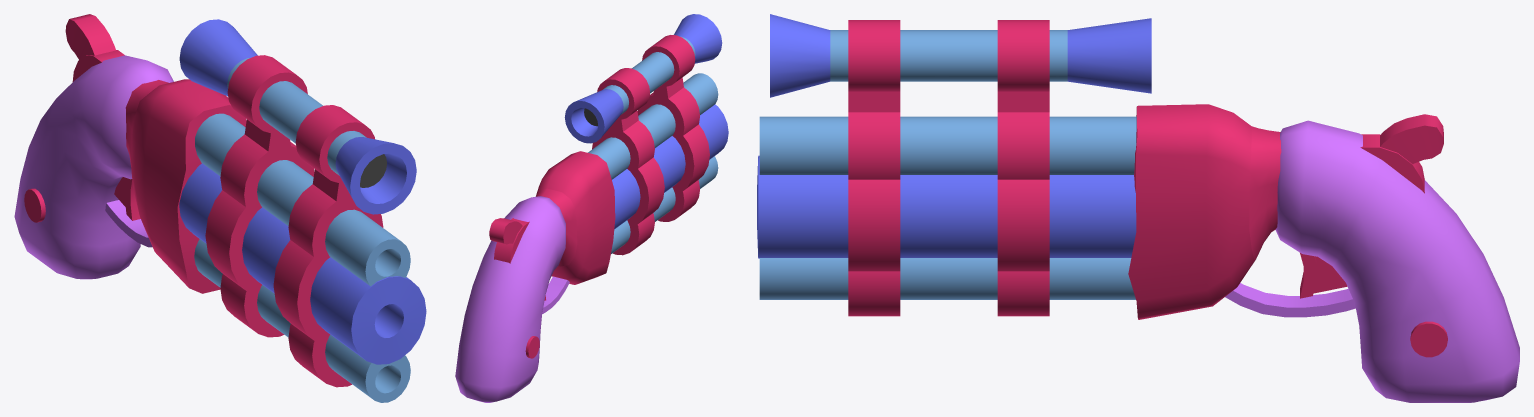
The model's file is SM_Toy_Gun_1.fbx.
The picture shows the model from 3 angles, left to right: view 1: azimuth 30°, elevation 25°; view 2: azimuth 150°, elevation 25°; view 3: azimuth 270°, elevation 25°; orthographic projection. The views are drawn at different scales.
Visible parts, largest first — view 1: SM_Toy_Gun_1; view 2: SM_Toy_Gun_1; view 3: SM_Toy_Gun_1.
Boxes of the visible parts, <box> form: SM_Toy_Gun_1: <box>14,14,426,402</box>; SM_Toy_Gun_1: <box>455,14,728,402</box>; SM_Toy_Gun_1: <box>757,14,1519,402</box>.
Size of the model in its own units: 103 by 335 by 613.
